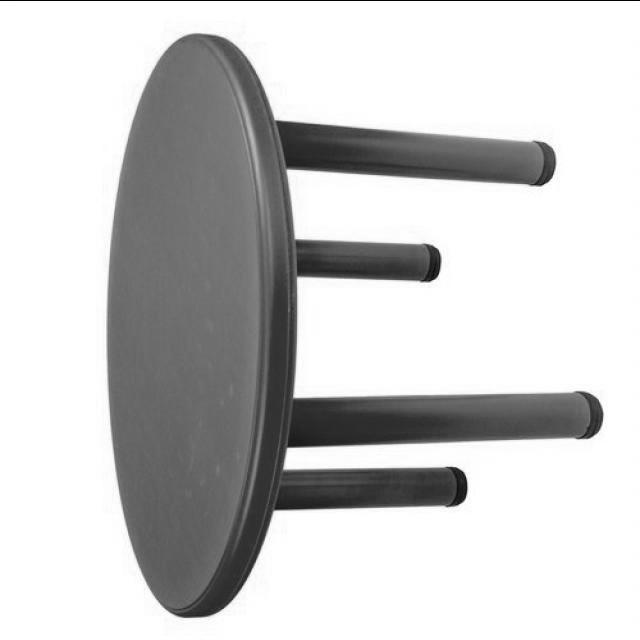table: (105, 26, 602, 616)
